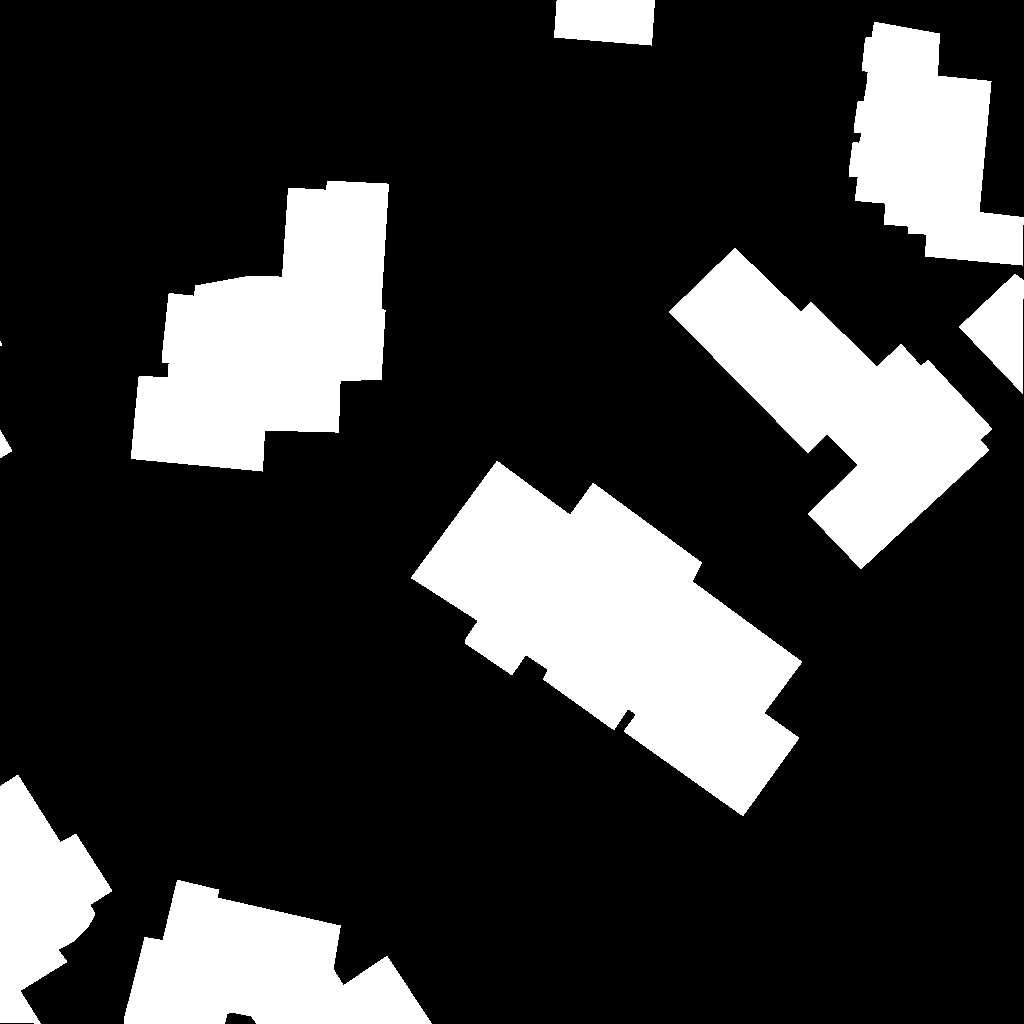building: (411, 461, 803, 817), (669, 248, 993, 570), (131, 181, 390, 472), (849, 22, 1024, 395), (124, 880, 433, 1024), (0, 775, 113, 1024), (554, 0, 656, 46), (0, 341, 13, 459)
